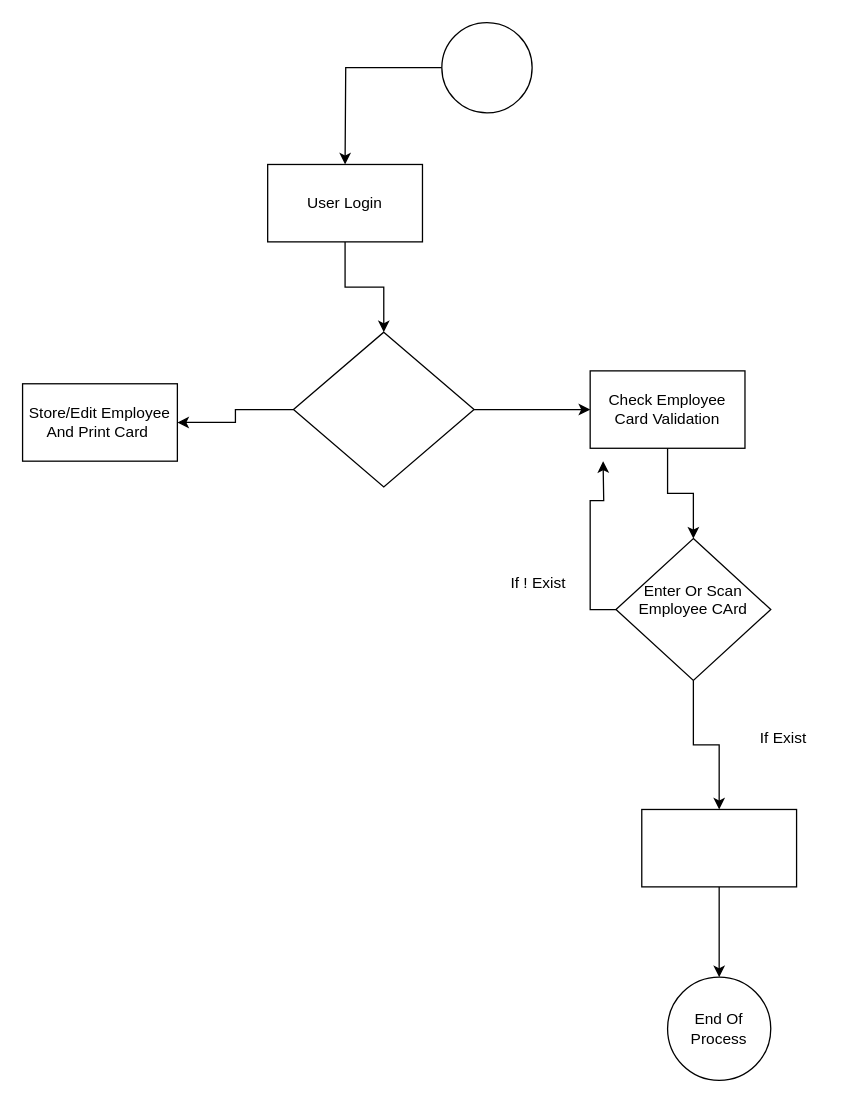
The diagram is 845 pixels wide and 1103 high, and some of its shapes have lost their labels. The centre of each missing label's shape, as x and y in pixels:
"Checking Access Permission" belongs at [383,409].
"Display It" belongs at [718,847].
"Start Of Process" belongs at [486,67].
